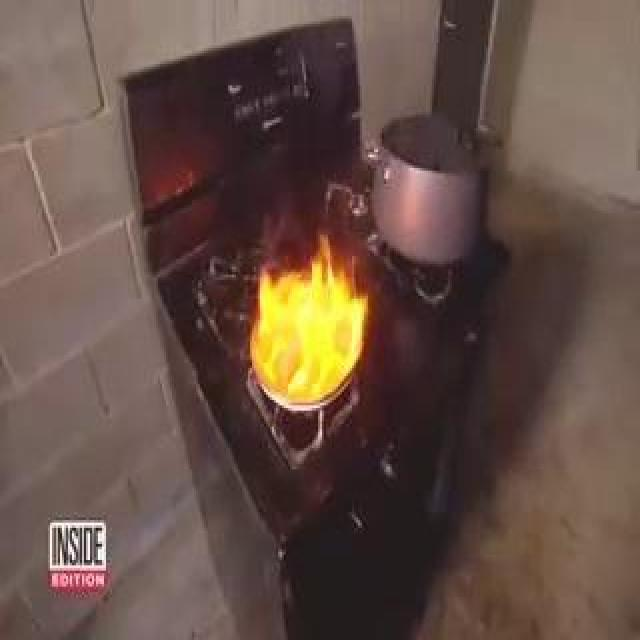Fire: (247, 170, 387, 410)
